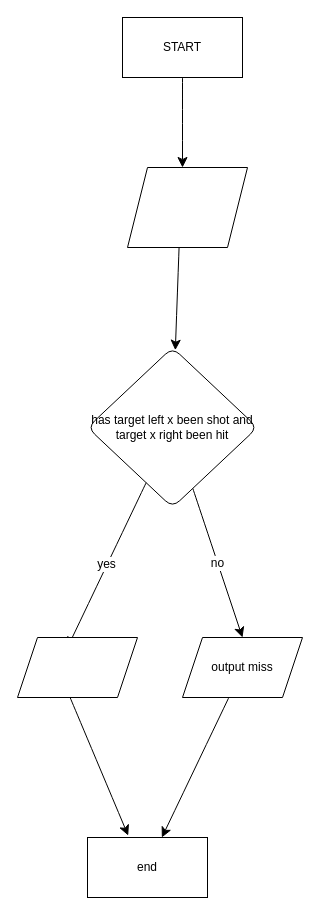
Some shapes in this 320 by 915 pixel diagram are drawn without their labels. Each missing label, with the box of its shape:
input shot x and target the left x and right x: (126, 166, 248, 248)
output hit: (16, 636, 138, 698)
